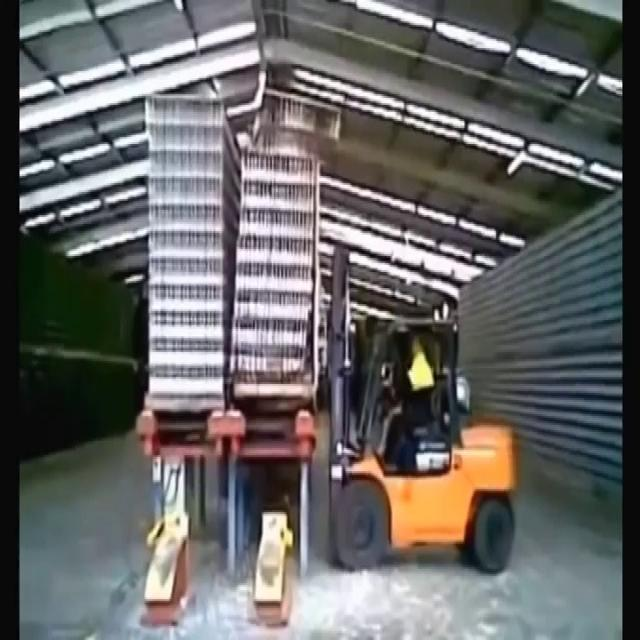forklift: (327, 242, 522, 576)
